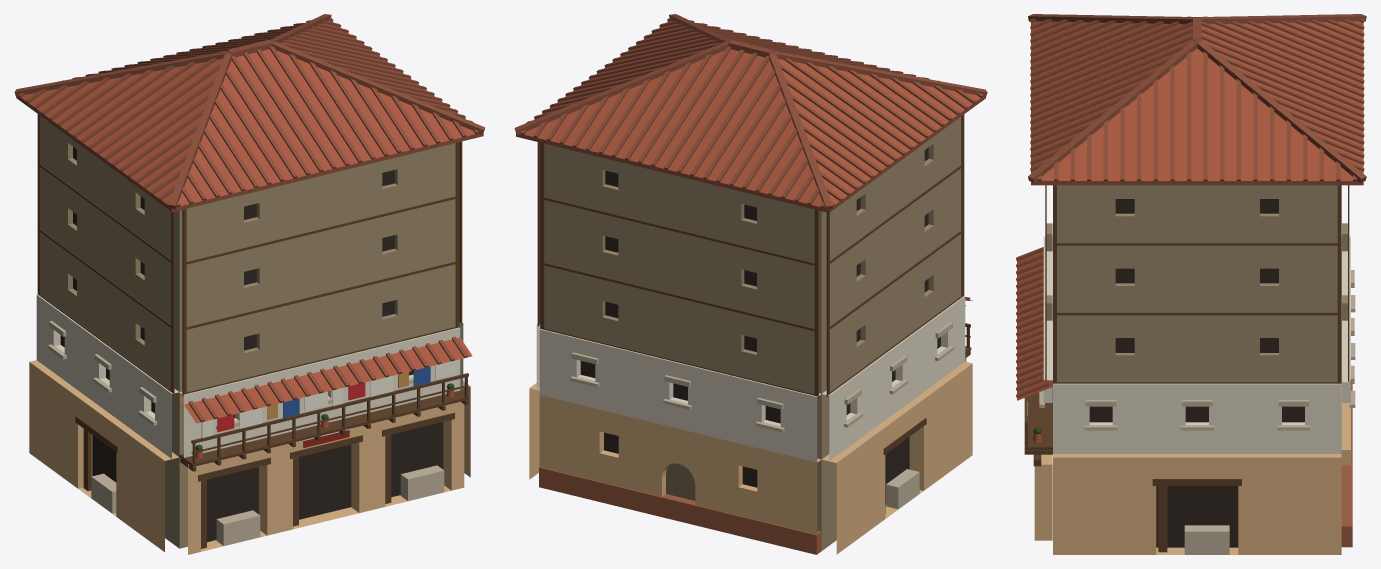
The model's file is rome_insula_a.glb.
3 renders of one model, left to right at view 1: azimuth 30°, elevation 25°; view 2: azimuth 150°, elevation 25°; view 3: azimuth 270°, elevation 25°, orthographic. The views are drawn at different scales.
Visible parts, largest first — view 1: rome_insula_a; view 2: rome_insula_a; view 3: rome_insula_a.
Part boxes in pixels (left/top/right/bottom): rome_insula_a: left=14, top=14, right=485, bottom=554; rome_insula_a: left=514, top=14, right=987, bottom=554; rome_insula_a: left=1016, top=14, right=1366, bottom=554.
Bounding box in the file's own units: 15.26 × 19.27 × 13.71.
